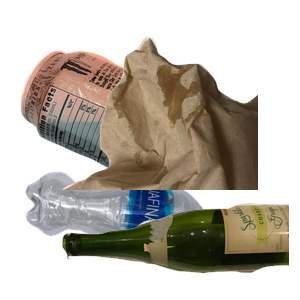glass: (60, 201, 300, 300)
metal: (18, 48, 258, 228)
plastic: (23, 169, 243, 300)
trash: (60, 35, 300, 215)
